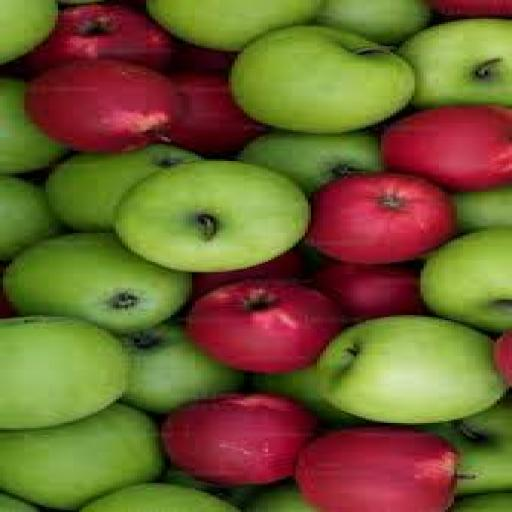Apple: (116, 161, 310, 272), (320, 316, 505, 424), (232, 26, 414, 133), (4, 233, 191, 332), (0, 405, 161, 510), (186, 280, 344, 373), (28, 59, 182, 152), (0, 317, 127, 429), (162, 394, 316, 484), (296, 427, 457, 511), (46, 144, 201, 231), (308, 173, 454, 263), (381, 105, 511, 191), (122, 324, 243, 412), (25, 4, 176, 73), (400, 19, 511, 107), (421, 228, 511, 332), (238, 132, 383, 193), (427, 398, 511, 494), (168, 72, 265, 155), (250, 365, 365, 426), (311, 262, 426, 321), (0, 78, 67, 174), (192, 251, 304, 297), (0, 177, 57, 260), (83, 483, 237, 511), (452, 185, 511, 232), (174, 42, 237, 71), (247, 485, 316, 511), (452, 494, 511, 511), (494, 331, 511, 386), (0, 494, 39, 511)
